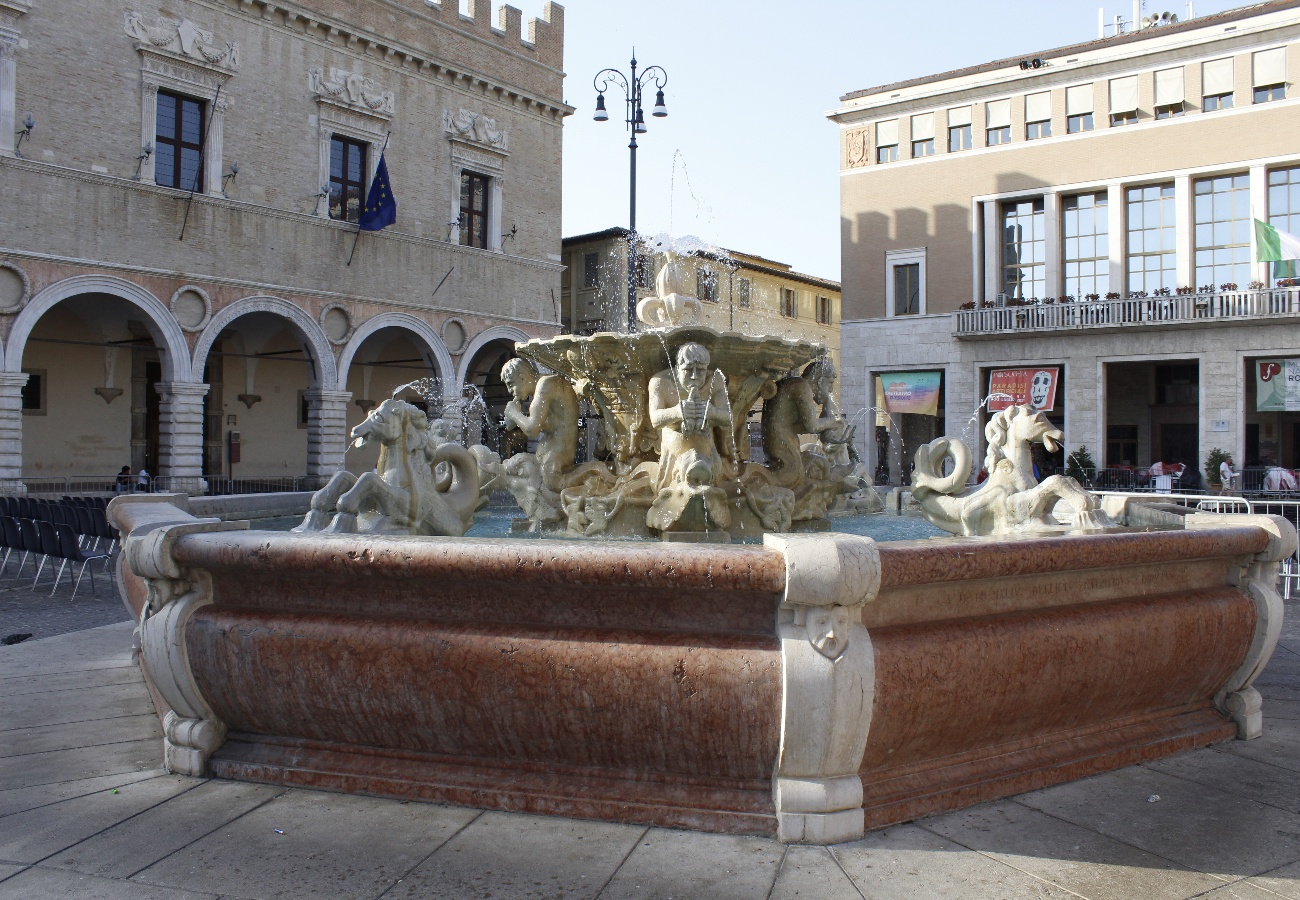Fontana Piazza del Popolo: (504, 337, 842, 541)
Palazzo Comunale: (835, 6, 1300, 504)
Palazzo Ducale: (1, 3, 569, 491)
